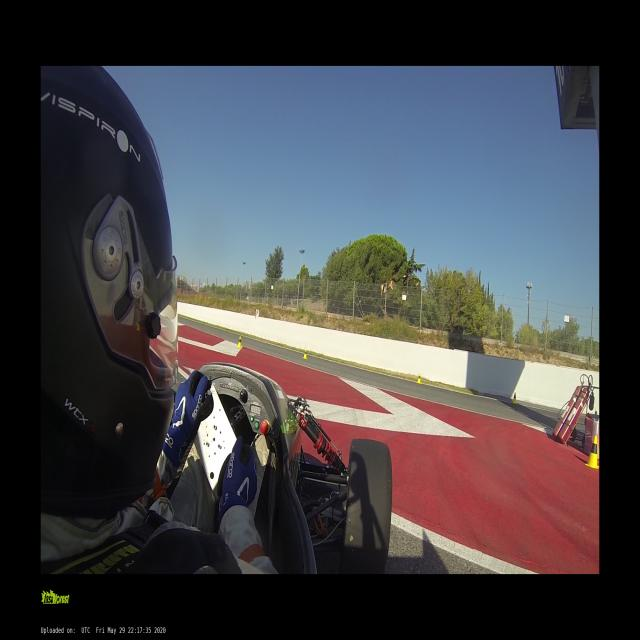yellow_cone: (584, 436, 599, 470), (512, 392, 517, 404), (302, 348, 307, 359), (238, 336, 242, 348), (417, 374, 421, 384)
